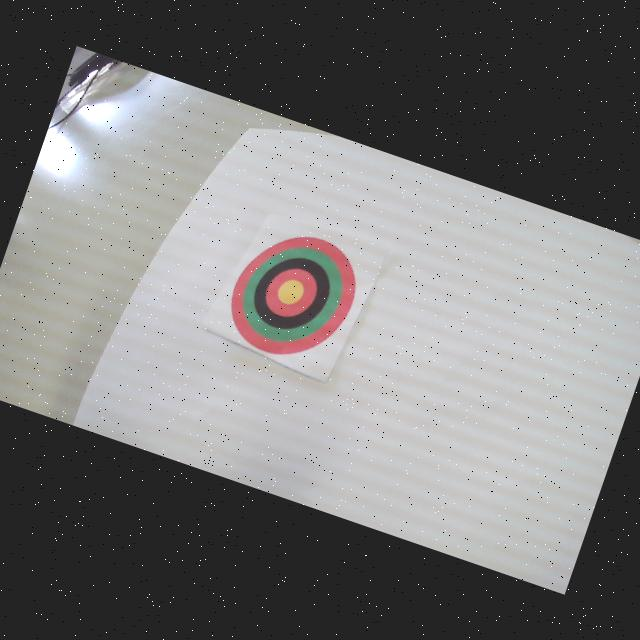COGNITIVE: (216, 216, 368, 373)
